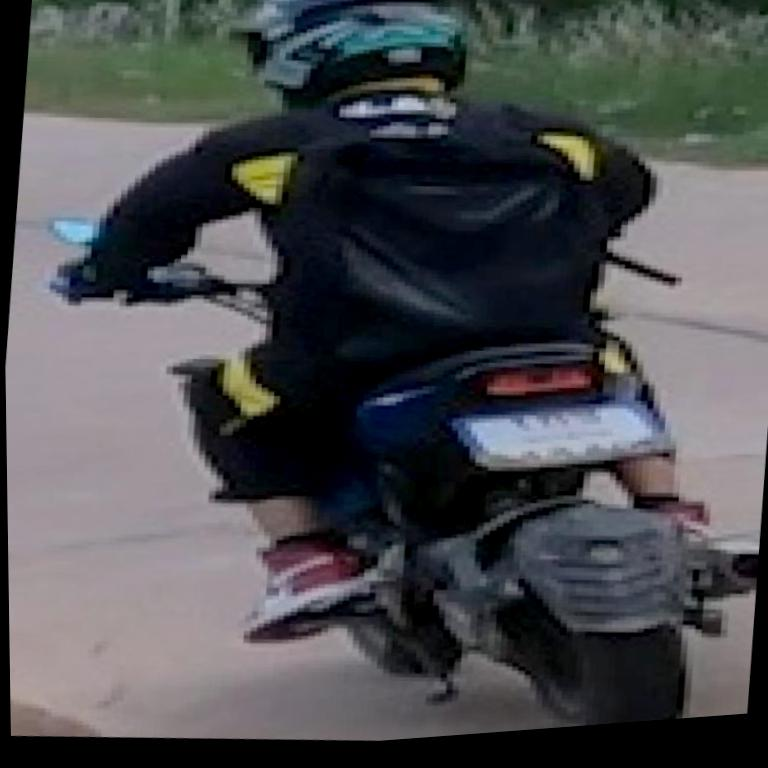license plate: (442, 372, 679, 491)
